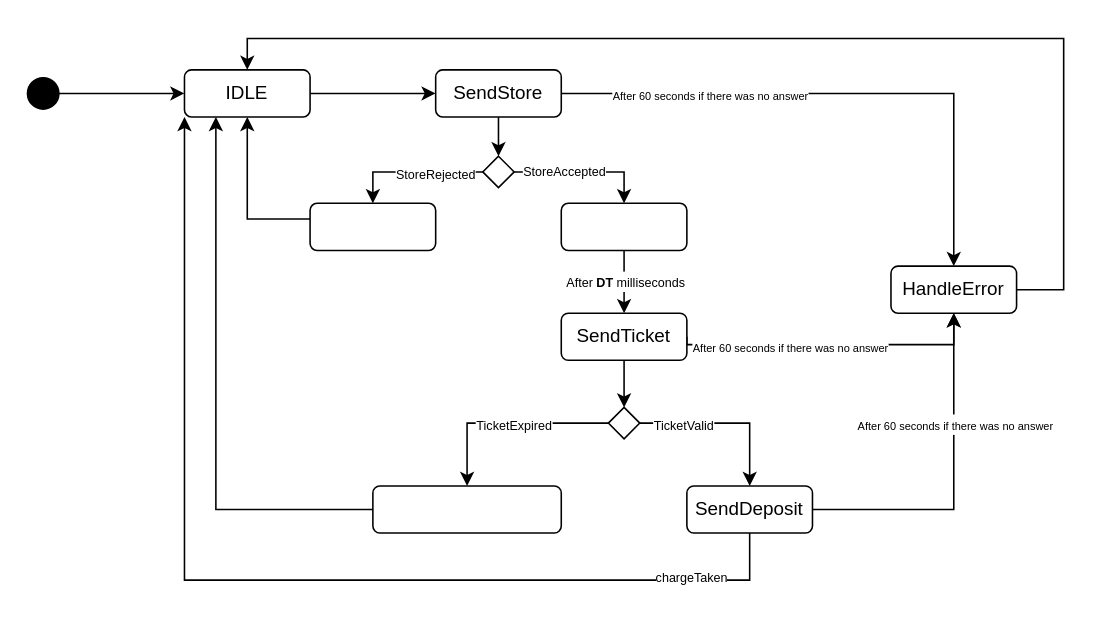
The diagram is 1104 pixels wide and 620 high, and some of its shapes have lost their labels. Each missing label, with the box of its shape:
Accepted: (560, 202, 687, 250)
handleTicketExpired: (371, 484, 561, 533)
Rejected: (309, 202, 436, 250)
